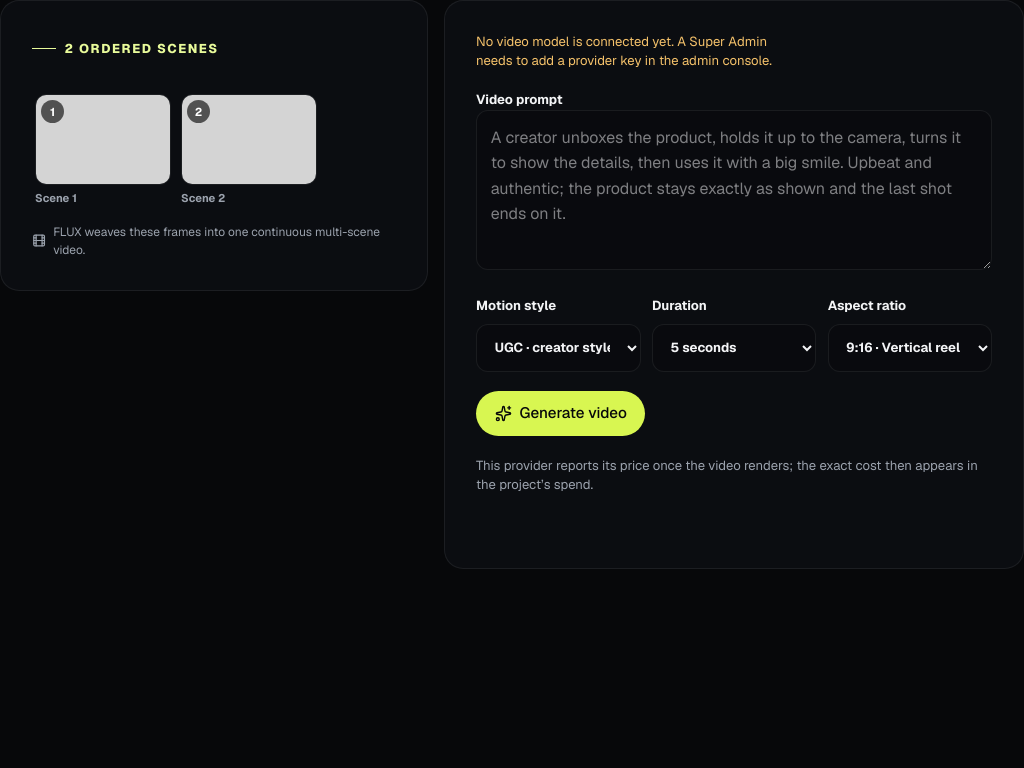
Test: VideoGenerator › renders an actionable admin/provider message when the API returns MULTI_IMAGE_REQUIRES_FLUX
Type "Continuous multi-scene motion story" into the text box labelled "Video prompt" at point(734, 190), box [476, 110, 992, 270]
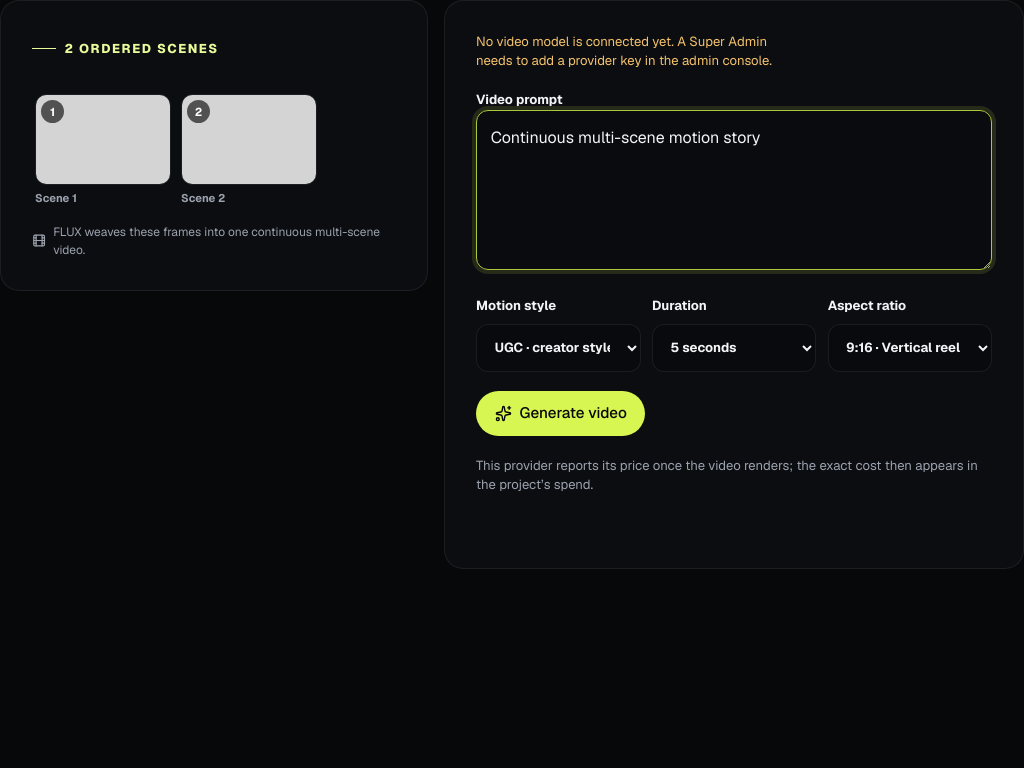
Click the button "Generate video" at point(561, 414), box [476, 391, 645, 436]
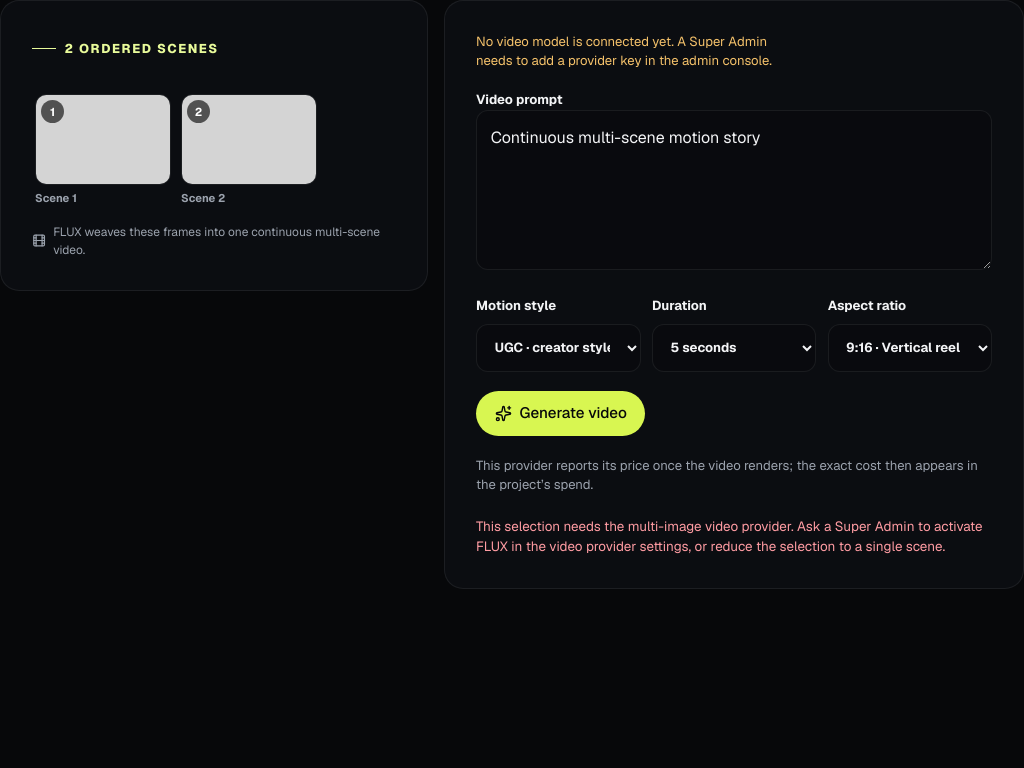
Expected: the text "multi-image video provider" is shown, [476, 517, 983, 555]
